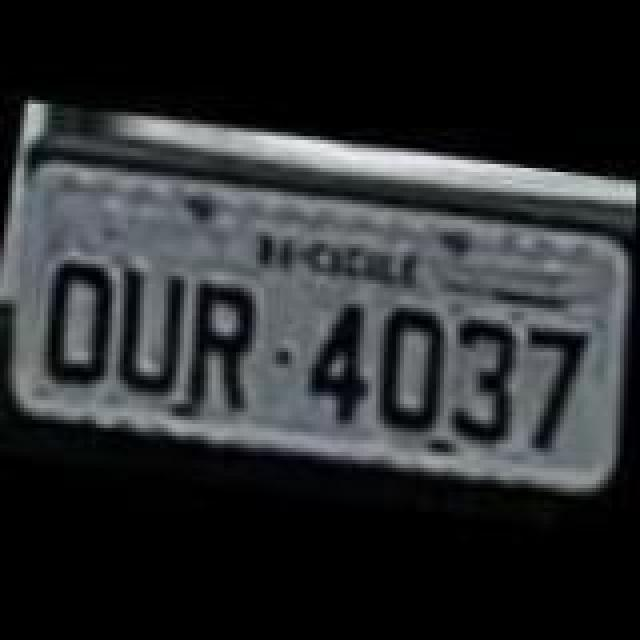3: (436, 316, 528, 452)
4: (300, 294, 388, 430)
7: (504, 318, 604, 458)
O: (38, 254, 130, 394), (370, 310, 454, 442)
R: (178, 278, 270, 418)
U: (106, 266, 206, 402)
